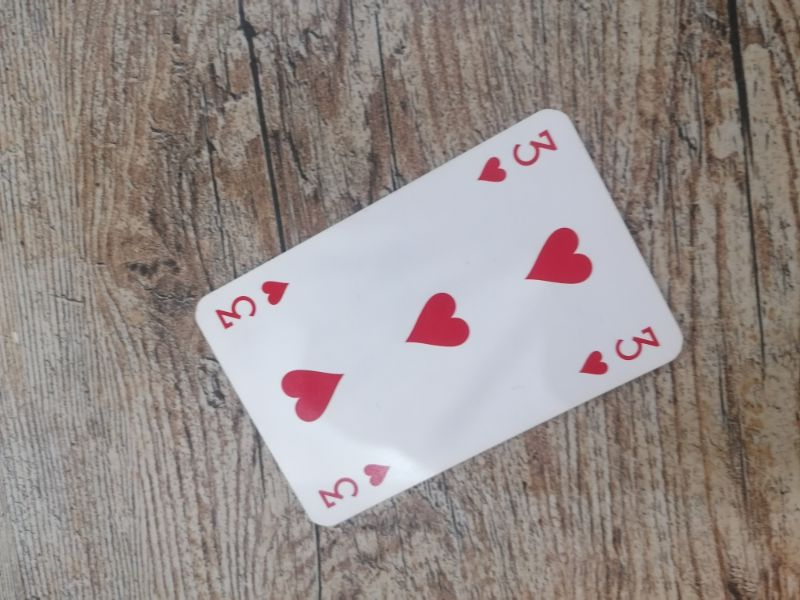3h: (474, 126, 562, 193), (576, 320, 664, 382), (212, 276, 295, 340), (314, 459, 394, 513)
